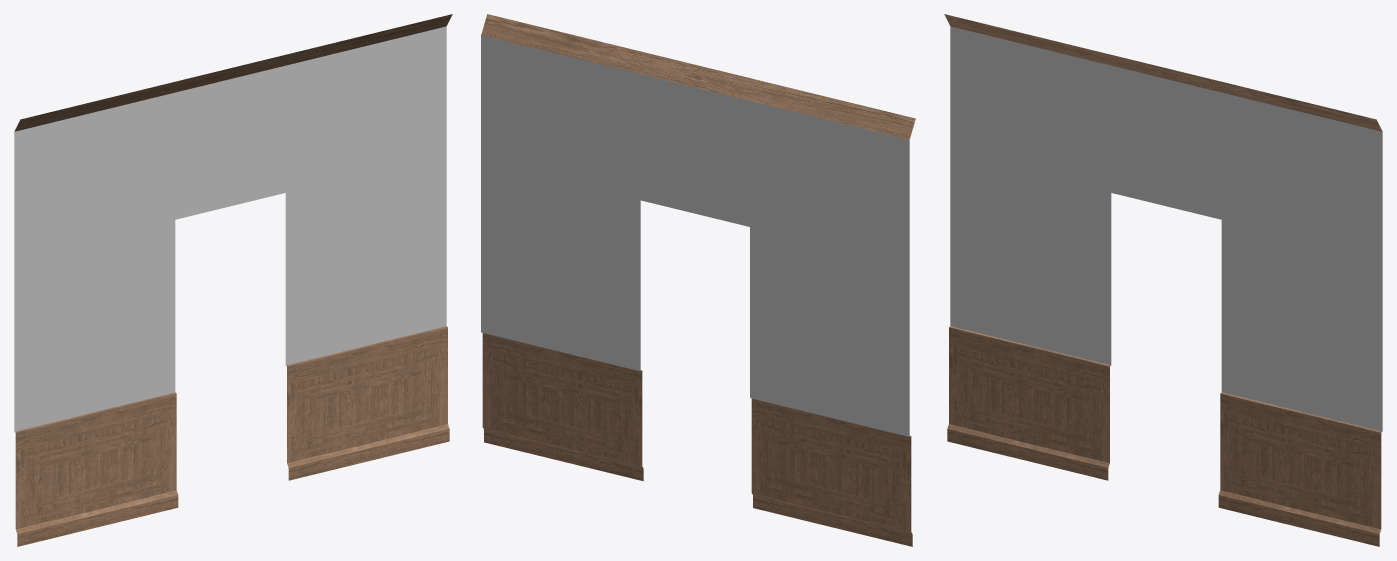
The model's file is WallInt2Door1A.fbx.
3 renders of one model, left to right at view 1: azimuth 30°, elevation 25°; view 2: azimuth 150°, elevation 25°; view 3: azimuth 330°, elevation 25°, orthographic.
Parts seen in each view (by area): view 1: WallInt2Door1A; view 2: WallInt2Door1A; view 3: WallInt2Door1A.
Part boxes in pixels (x1,y1,x2,y2): WallInt2Door1A: (14, 14, 452, 546); WallInt2Door1A: (481, 14, 915, 546); WallInt2Door1A: (944, 14, 1382, 546).
Size of the model in its own units: 400 by 380 by 10.
